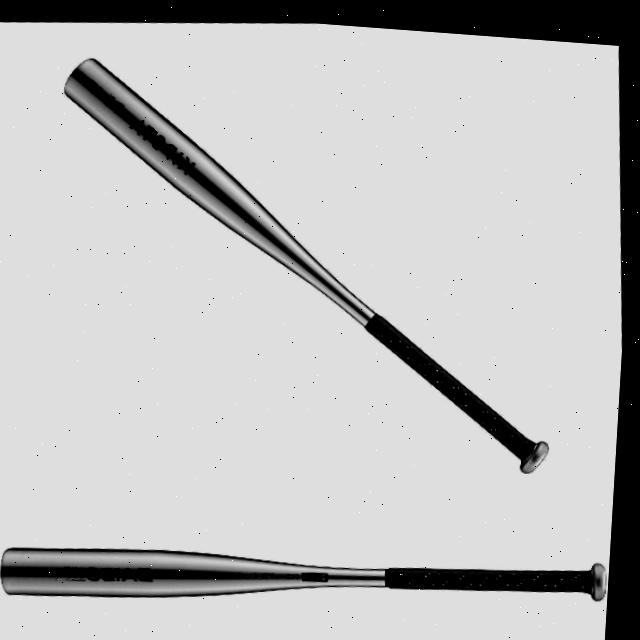baseball bat: (46, 20, 569, 495), (8, 509, 616, 626)
